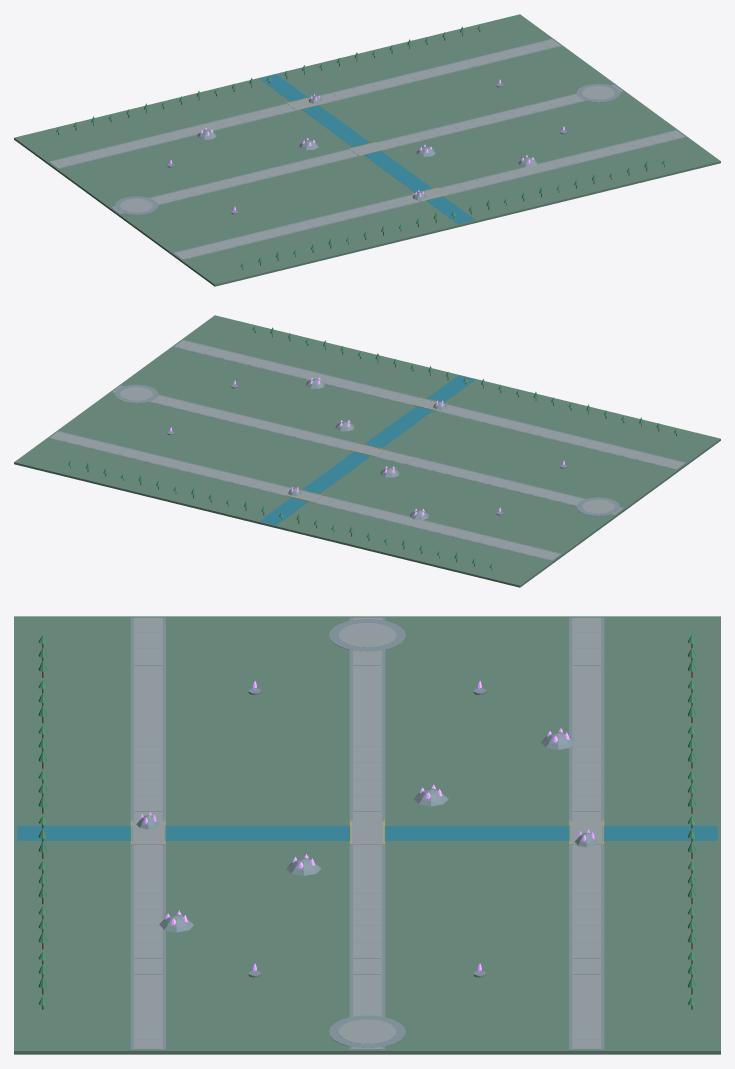
File: genesis_rift_candidate.glb
The picture shows the model from 3 angles, top to bottom: view 1: azimuth 30°, elevation 25°; view 2: azimuth 150°, elevation 25°; view 3: azimuth 270°, elevation 25°; orthographic projection. The views are drawn at different scales.
Parts seen in each view (by area): view 1: GenesisRift_terrain, GenesisRift_lanes, GenesisRift_cover_and_vegetation; view 2: GenesisRift_terrain, GenesisRift_lanes, GenesisRift_cover_and_vegetation; view 3: GenesisRift_terrain, GenesisRift_lanes, GenesisRift_cover_and_vegetation.
Part boxes in pixels (left/top/right/bottom): GenesisRift_terrain: left=14, top=14, right=720, bottom=286; GenesisRift_lanes: left=49, top=39, right=685, bottom=259; GenesisRift_cover_and_vegetation: left=56, top=25, right=666, bottom=269; GenesisRift_terrain: left=14, top=315, right=720, bottom=587; GenesisRift_lanes: left=49, top=340, right=685, bottom=560; GenesisRift_cover_and_vegetation: left=68, top=326, right=678, bottom=570; GenesisRift_terrain: left=14, top=616, right=720, bottom=1054; GenesisRift_lanes: left=17, top=617, right=717, bottom=1049; GenesisRift_cover_and_vegetation: left=38, top=635, right=696, bottom=1009.
Size of the model in its own units: 320 by 7.33 by 220.
